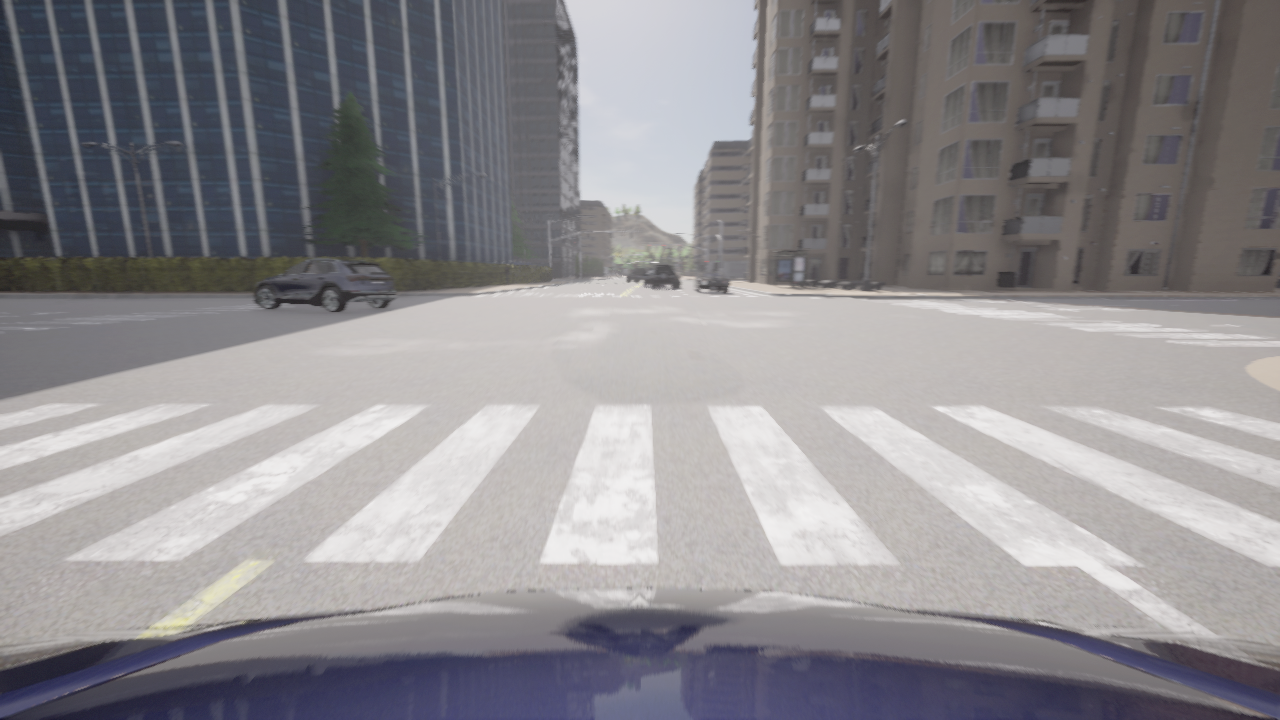cyclist: (0, 588, 1279, 719), (255, 258, 397, 312), (694, 272, 729, 292), (652, 264, 680, 288), (644, 269, 665, 286), (627, 269, 646, 281)
pedestrian: (504, 263, 510, 285)
